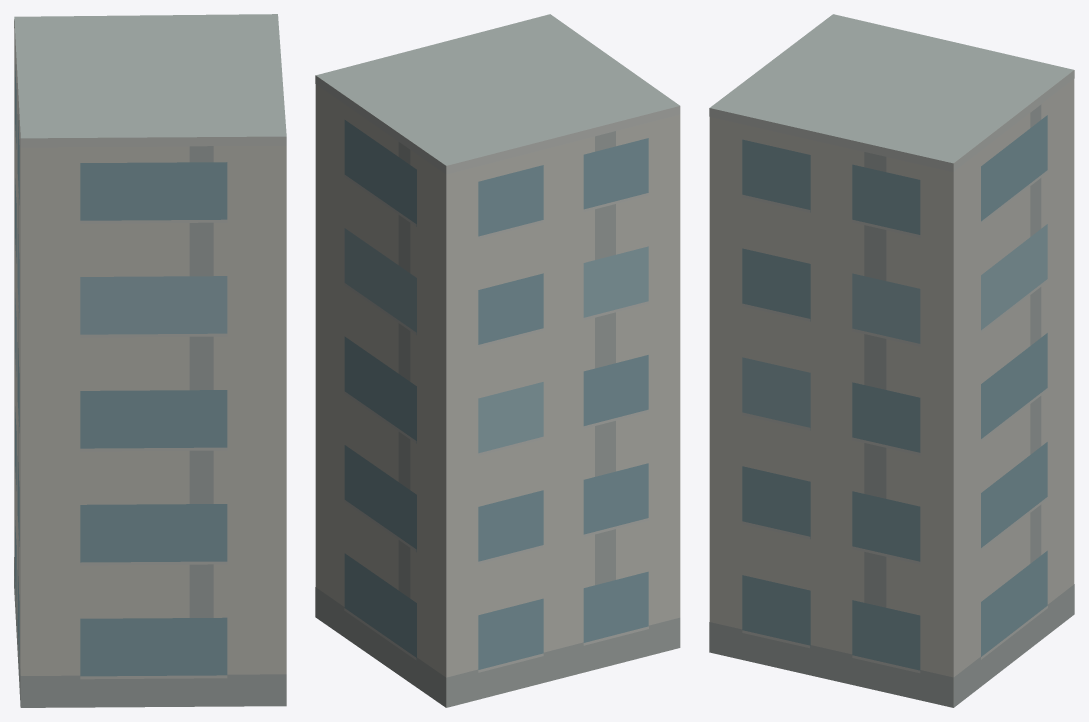
Rendered from survey-upis-32749147.glb.
The picture shows the model from 3 angles, left to right: view 1: azimuth 30°, elevation 25°; view 2: azimuth 150°, elevation 25°; view 3: azimuth 270°, elevation 25°; orthographic projection. The views are drawn at different scales.
Parts seen in each view (by area): view 1: survey-upis-32749147.tmp; view 2: survey-upis-32749147.tmp; view 3: survey-upis-32749147.tmp.
Boxes of the visible parts, x1,y1,x2,y2 form: survey-upis-32749147.tmp: (14, 14, 286, 707); survey-upis-32749147.tmp: (315, 14, 680, 707); survey-upis-32749147.tmp: (709, 14, 1074, 707).
Size of the model in its own units: 8.98 by 15.25 by 9.27.
